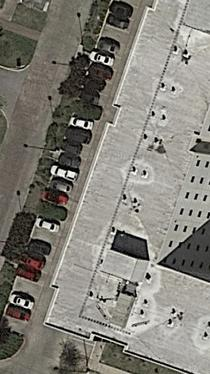parkingspot: (0, 0, 143, 340)
